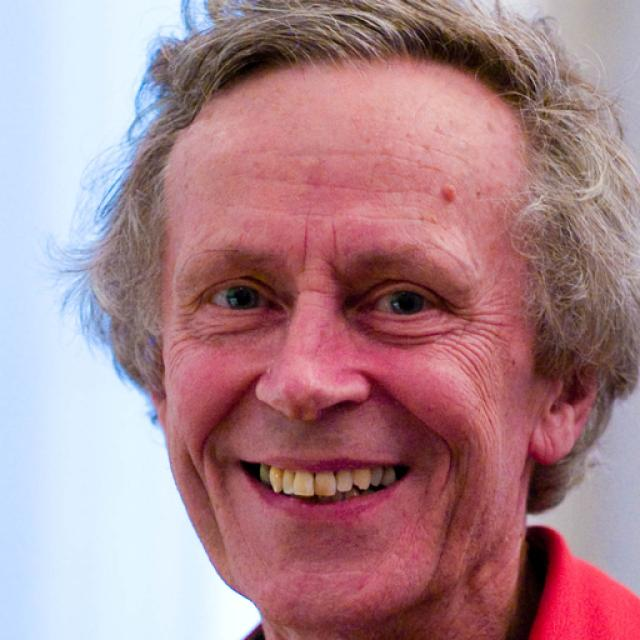Acne: (437, 180, 460, 202), (377, 140, 399, 160), (400, 125, 419, 144)
Wrinkle: (238, 205, 455, 241), (275, 148, 443, 173), (254, 176, 426, 197)
